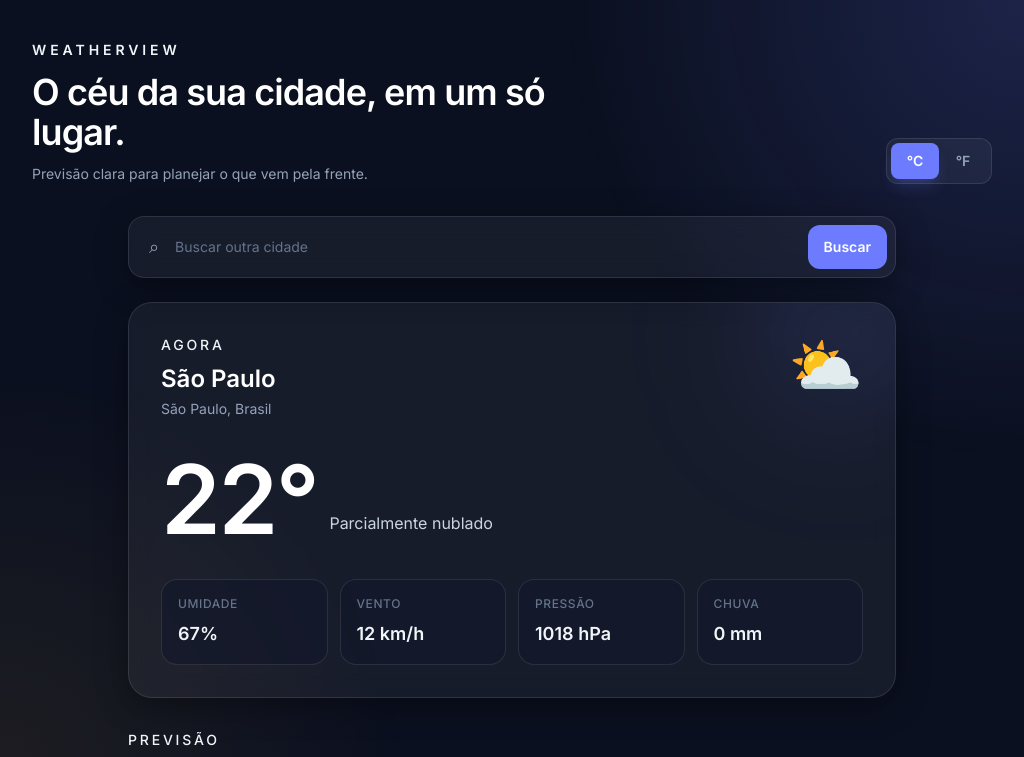
Test case: Weather App com dados demonstrativos › exibe o estado vazio após uma busca
This screenshot has width=1024, height=757.
Type "Curitiba" into the search field named "Buscar cidade" at x=483, y=247, box [167,225,800,269]
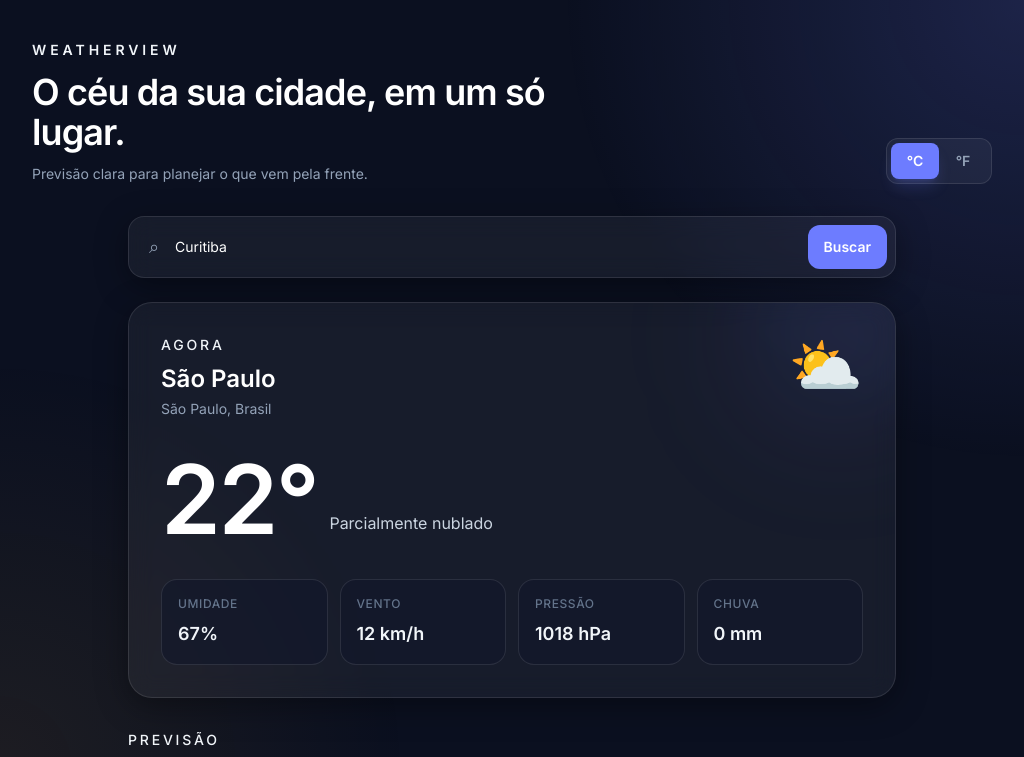
Submit the form, box [128,216,896,278]
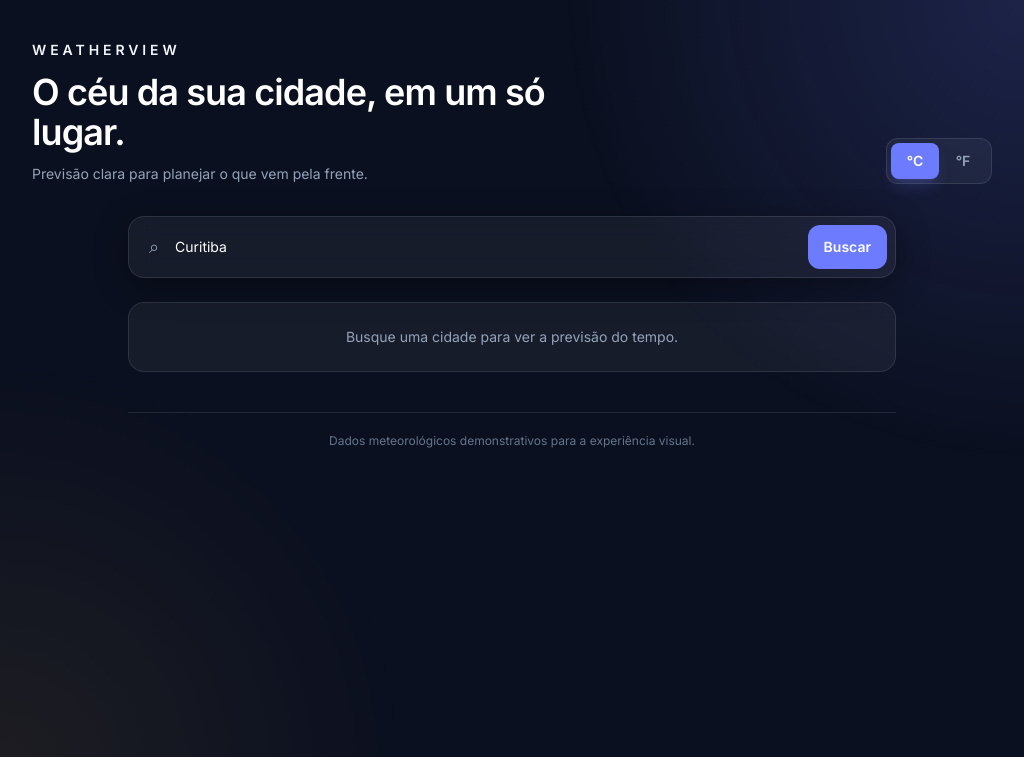
Expected: the text "Busque uma cidade para ver a previsão do tempo." is shown, [128,302,896,372]
Expected: the heading "São Paulo" is gone
